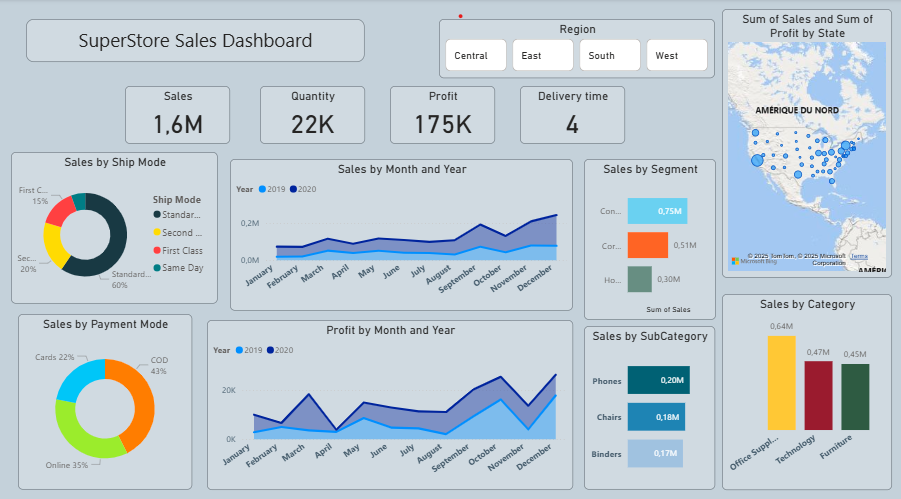

This screenshot's page, from the dashboard's own definition file:
{"tool":"powerbi","page":{"name":"Dashboard","canvas":[1280,720],"ordinal":0},"visuals":[{"type":"clusteredColumnChart","title":"Sales by Category","fields":{"Category":["SuperStore_Sales_Dataset.Category"],"Y":["Sum(SuperStore_Sales_Dataset.Sales)"]},"box":[1023.3,418.1,240.9,277.8],"z":0},{"type":"clusteredBarChart","title":"Sales by SubCategory","fields":{"Category":["SuperStore_Sales_Dataset.Sub-Category"],"Y":["Sum(SuperStore_Sales_Dataset.Sales)"]},"box":[827.7,463.5,185.7,232.4],"z":1000},{"type":"donutChart","title":"Sales by Ship Mode","fields":{"Category":["SuperStore_Sales_Dataset.Ship Mode"],"Y":["Sum(SuperStore_Sales_Dataset.Sales)"]},"box":[15.6,216.9,293.4,215.4],"z":2000},{"type":"stackedAreaChart","title":"Sales by Month and Year","fields":{"Category":["SuperStore_Sales_Dataset.Order Date.Variation.Date Hierarchy.Month","SuperStore_Sales_Dataset.Order Date.Variation.Date Hierarchy.Day"],"Y":["Sum(SuperStore_Sales_Dataset.Sales)"],"Series":["SuperStore_Sales_Dataset.Order Date.Variation.Date Hierarchy.Year"]},"box":[326,226.8,486.1,215.4],"z":3000},{"type":"stackedAreaChart","title":"Profit by Month and Year","fields":{"Category":["SuperStore_Sales_Dataset.Order Date.Variation.Date Hierarchy.Month","SuperStore_Sales_Dataset.Order Date.Variation.Date Hierarchy.Day"],"Series":["SuperStore_Sales_Dataset.Order Date.Variation.Date Hierarchy.Year"],"Y":["Sum(SuperStore_Sales_Dataset.Profit)"]},"box":[293.4,455,518.7,240.9],"z":4000},{"type":"map","fields":{"Category":["SuperStore_Sales_Dataset.State"],"Size":["Sum(SuperStore_Sales_Dataset.Sales)"]},"box":[1023.3,14.2,240.9,381.3],"z":5000},{"type":"clusteredBarChart","title":"Sales by Segment","fields":{"Category":["SuperStore_Sales_Dataset.Segment"],"Y":["Sum(SuperStore_Sales_Dataset.Sales)"]},"box":[827.7,226.8,187.1,228.2],"z":6000},{"type":"donutChart","title":"Sales by Payment Mode","fields":{"Category":["SuperStore_Sales_Dataset.Payment Mode"],"Y":["Sum(SuperStore_Sales_Dataset.Sales)"]},"box":[25.5,446.5,246.6,249.4],"z":7000},{"type":"advancedSlicerVisual","fields":{"Values":["SuperStore_Sales_Dataset.Region"]},"box":[622.2,28.3,391.2,83.6],"z":8000},{"type":"textbox","box":[36.9,28.3,480.5,60.9],"z":9000},{"type":"card","title":"Sales","fields":{"Values":["Sum(SuperStore_Sales_Dataset.Sales)"]},"box":[177.2,123.3,148.8,82.2],"z":10000},{"type":"card","title":"Quantity","fields":{"Values":["Sum(SuperStore_Sales_Dataset.Quantity)"]},"box":[368.5,123.3,148.8,82.2],"z":11000},{"type":"card","title":"Profit","fields":{"Values":["Sum(SuperStore_Sales_Dataset.Profit)"]},"box":[552.8,123.3,148.8,82.2],"z":12000},{"type":"card","title":"Delivery time","fields":{"Values":["Avg(SuperStore_Sales_Dataset.AvrgDelivery)"]},"box":[737,123.3,148.8,82.2],"z":13000}]}

Visuals, with their boxes in screenshot pixels (x1, y1, x2, y2), scaled from the page's 1280x720 canvas onto the 901x499 screenshot:
"Sales by Category" clusteredColumnChart: 720/290/890/482
"Sales by SubCategory" clusteredBarChart: 583/321/713/482
"Sales by Ship Mode" donutChart: 11/150/218/300
"Sales by Month and Year" stackedAreaChart: 229/157/572/306
"Profit by Month and Year" stackedAreaChart: 207/315/572/482
map - SuperStore_Sales_Dataset.State x Sum(SuperStore_Sales_Dataset.Sales): 720/10/890/274
"Sales by Segment" clusteredBarChart: 583/157/714/315
"Sales by Payment Mode" donutChart: 18/309/192/482
advancedSlicerVisual - SuperStore_Sales_Dataset.Region: 438/20/713/78
textbox: 26/20/364/62
"Sales" card: 125/85/229/142
"Quantity" card: 259/85/364/142
"Profit" card: 389/85/494/142
"Delivery time" card: 519/85/624/142
